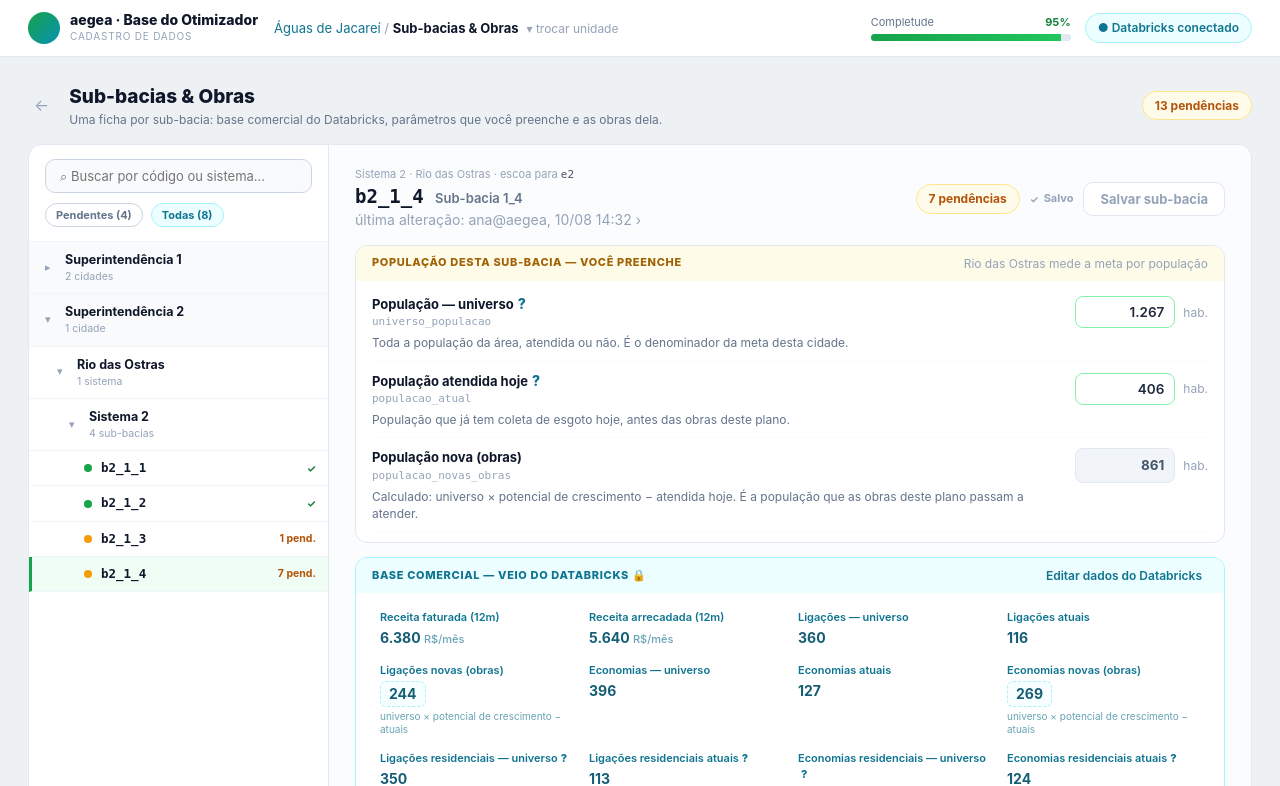
a linha "última alteração" abre o histórico › a ficha aberta é a que o painel mostra, pelo NOME dela
Expected: the button "Salvar sub-bacia" is shown, [1084,182,1225,216]
Click the button "última alteração: ana@aegea, 10/08 14:32 ›".
click(498, 221)  # box [355,210,641,231]
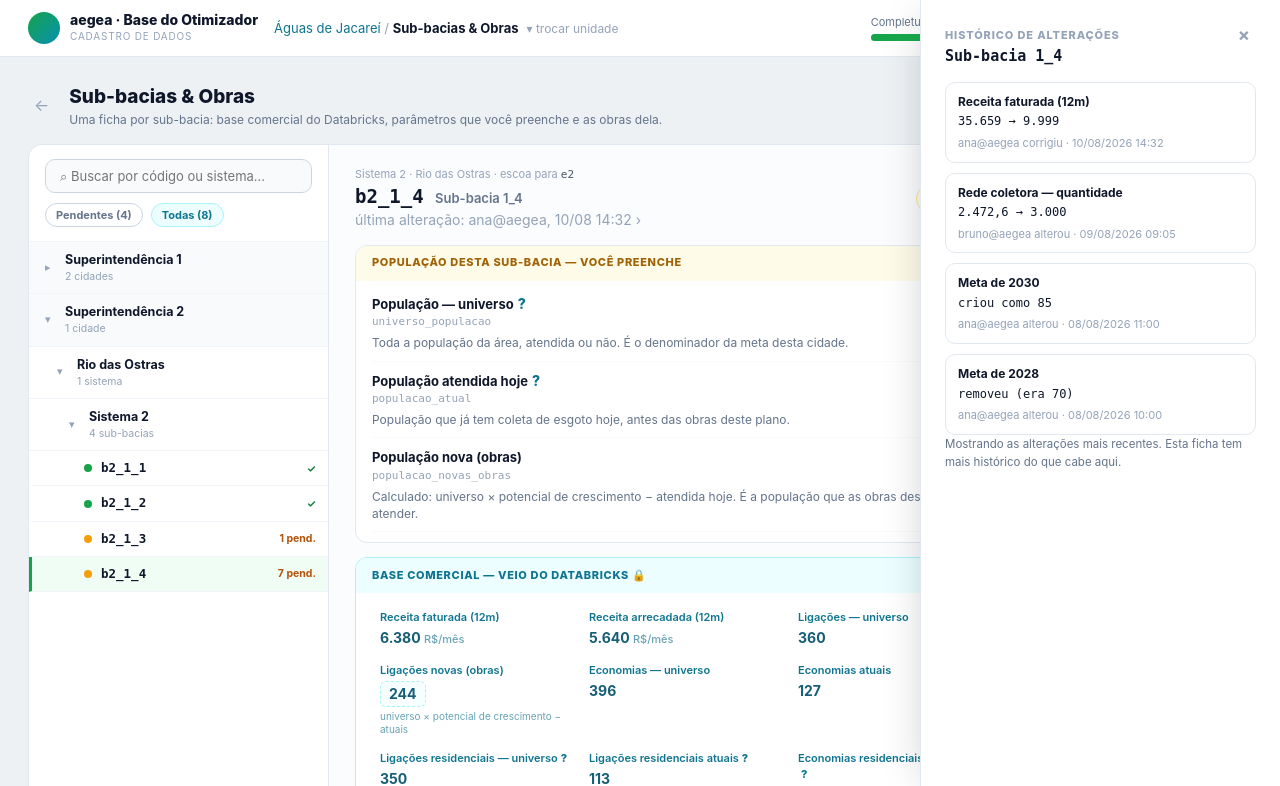
Expected: the element "Histórico de alterações" shows "Sub-bacia 1_4", [945,47,1062,65]
